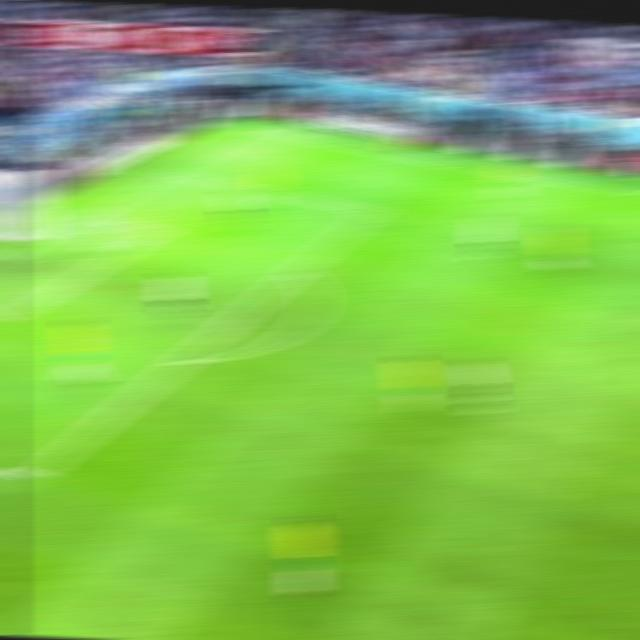bigarea_bottom_inner: (22, 472, 47, 482)
bigarea_top_inner: (361, 208, 386, 217)
bigarea_top_outter: (164, 171, 185, 177)
bottom_arc_area_intersection: (170, 358, 194, 367)
corner: (243, 126, 270, 134)
smallarea_top_inner: (146, 227, 170, 236)
smallarea_top_outter: (82, 211, 102, 219)
top_arc_area_intersection: (285, 266, 309, 278)
